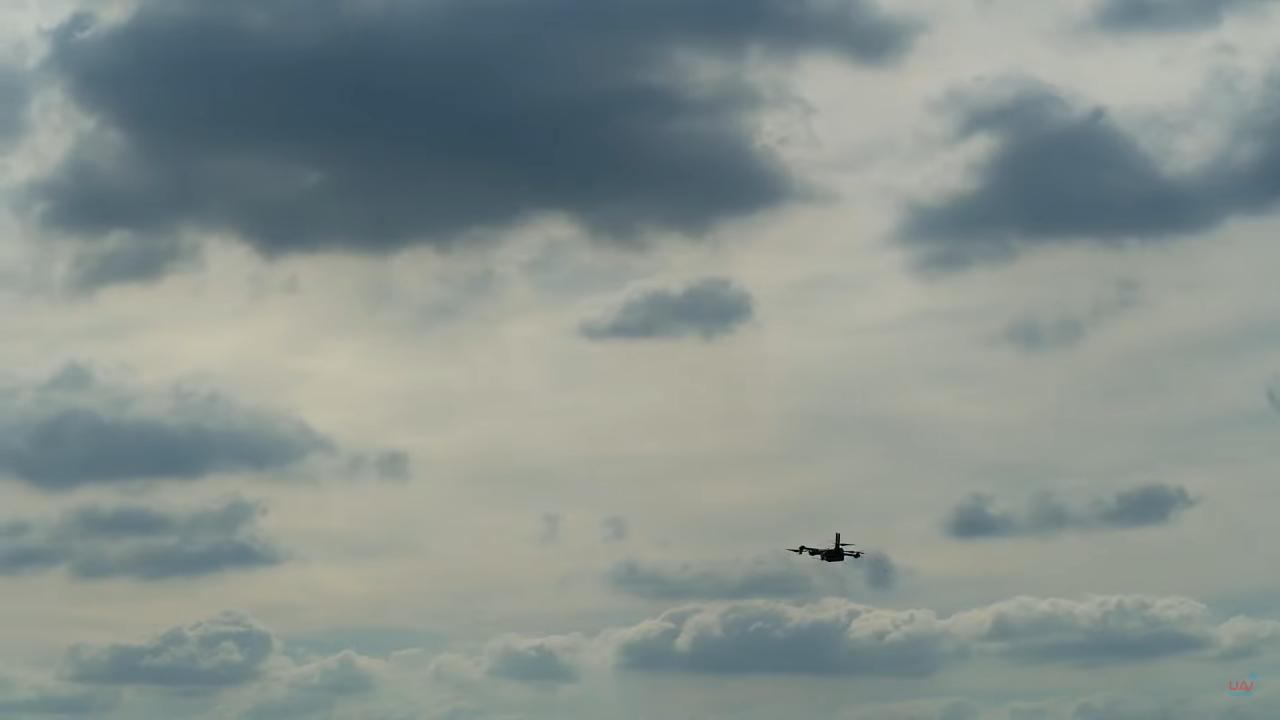Drone: (776, 523, 876, 577)
